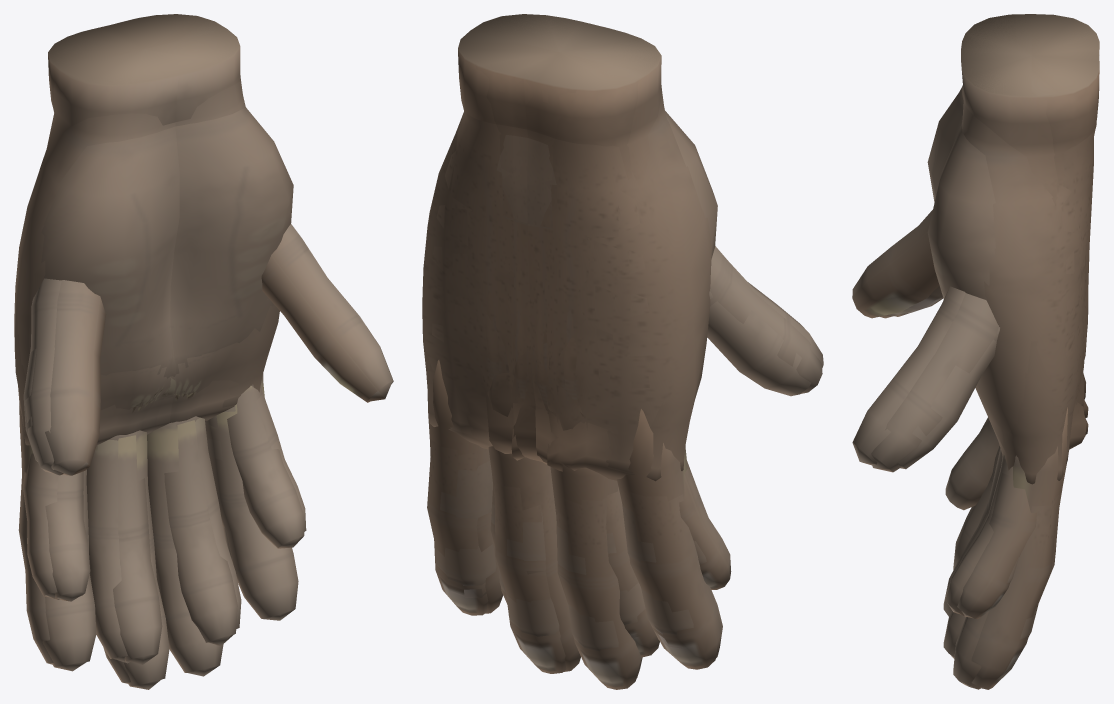
Rendered from crew_hands.glb.
The picture shows the model from 3 angles, left to right: view 1: azimuth 30°, elevation 25°; view 2: azimuth 150°, elevation 25°; view 3: azimuth 270°, elevation 25°; orthographic projection. The views are drawn at different scales.
Visible parts, largest first — view 1: hand_L_old_LOD0, hand_R_old_LOD0, hand_L_young_LOD0, hand_R_young_LOD0, hand_L_LOD0, hand_R_LOD0; view 2: hand_L_LOD0, hand_R_LOD0, hand_L_old_LOD0, hand_R_old_LOD0, hand_L_young_LOD0, hand_R_young_LOD0; view 3: hand_R_LOD0, hand_R_old_LOD0, hand_L_old_LOD0, hand_R_young_LOD0, hand_L_LOD0, hand_L_young_LOD0.
Part boxes in pixels (x1,y1,x2,y2): hand_L_old_LOD0: (14,14,304,689); hand_R_old_LOD0: (45,14,393,676); hand_L_young_LOD0: (23,126,179,461); hand_R_young_LOD0: (27,107,293,579); hand_L_LOD0: (14,113,306,683); hand_R_LOD0: (23,81,383,663); hand_L_LOD0: (429,92,822,689); hand_R_LOD0: (422,124,731,673); hand_L_old_LOD0: (449,14,823,677); hand_R_old_LOD0: (423,14,659,671); hand_L_young_LOD0: (491,111,810,651); hand_R_young_LOD0: (435,135,706,637); hand_R_LOD0: (871,103,1087,689); hand_R_old_LOD0: (852,14,1099,689); hand_L_old_LOD0: (852,14,1099,658); hand_R_young_LOD0: (898,123,1056,639); hand_L_LOD0: (879,85,1095,619); hand_L_young_LOD0: (894,86,1093,582).
Size of what is drawn, in the model's own units: 0.1207 by 0.2019 by 0.0734.
1 material, 1 textured.
